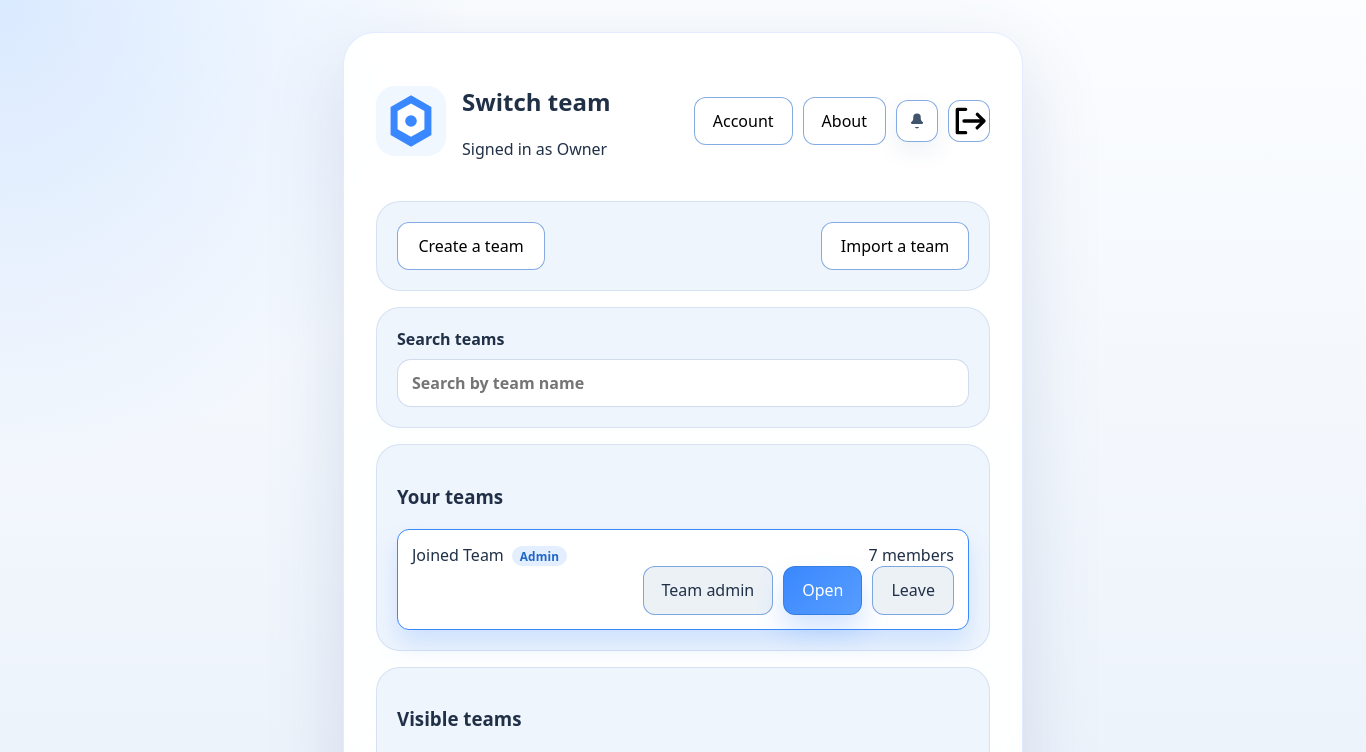
Scenario: App › shows pending join requests plus active and historical notifications in the bell panel
The image size is (1366, 752).
Expected: the heading "Your teams" is shown, top-left (397, 484), bottom-right (503, 509)
What coordinates should you click on to do the following:
click the button named "Open notifications"
I would click on:
 (917, 121)
Its box is top-left (896, 100), bottom-right (938, 142).
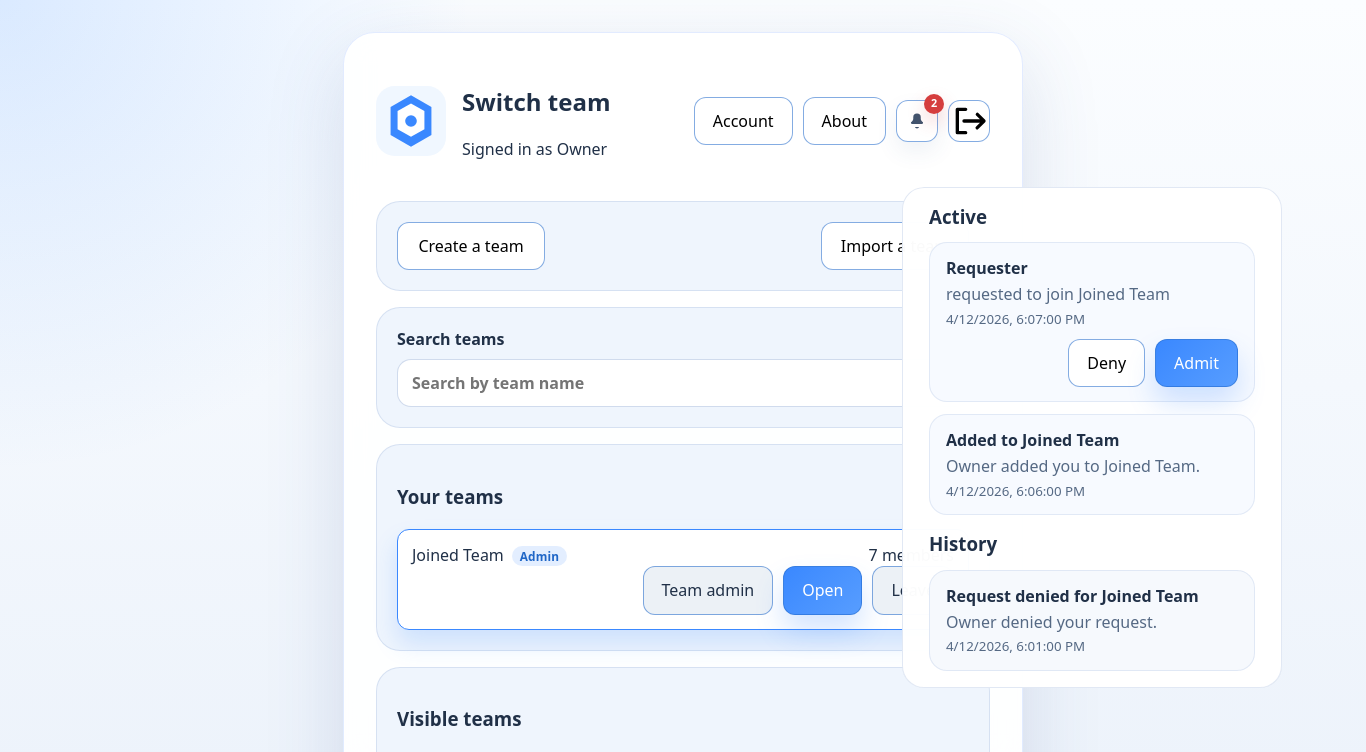
Result: the dialog named "Notifications" is shown at top-left (902, 187), bottom-right (1282, 688)
Result: the heading "Active" is shown at top-left (929, 204), bottom-right (987, 229)
Result: the heading "History" is shown at top-left (929, 531), bottom-right (997, 556)
